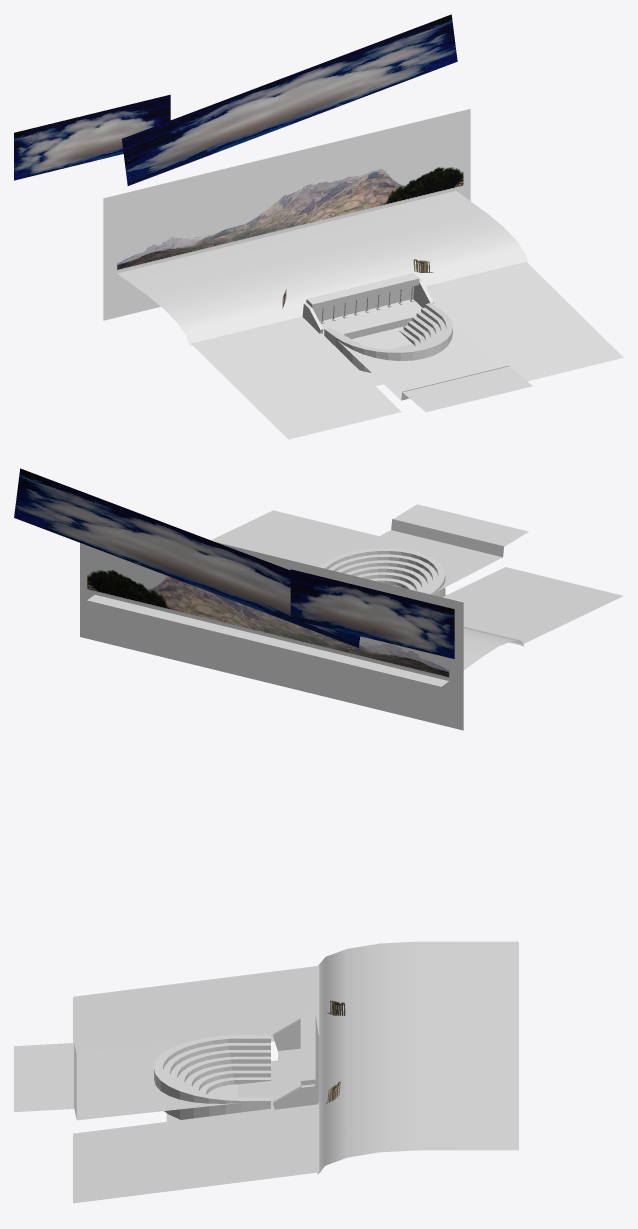
File: Greek_Arena.fbx
3 renders of one model, top to bottom at view 1: azimuth 30°, elevation 25°; view 2: azimuth 150°, elevation 25°; view 3: azimuth 270°, elevation 25°, orthographic. The views are drawn at different scales.
Visible parts, largest first — view 1: Montagne, Collina, Collina2, Nuvola1, Pavimento, Nuvola2, Palco, Spalti, Arena; view 2: Montagne, Nuvola1, Collina2, Nuvola2, Pavimento, Collina, Spalti; view 3: Collina, Collina2, Pavimento, Spalti, Palco, Arena.
Boxes of the visible parts, x1,y1,x2,y2 form: Montagne: (103, 109, 470, 320); Collina: (117, 191, 528, 345); Collina2: (191, 262, 623, 439); Nuvola1: (122, 14, 457, 185); Pavimento: (323, 301, 532, 412); Nuvola2: (14, 94, 170, 180); Palco: (302, 273, 433, 338); Spalti: (324, 303, 452, 372); Arena: (352, 326, 411, 386); Montagne: (80, 542, 463, 730); Nuvola1: (14, 468, 360, 647); Collina2: (211, 510, 623, 644); Nuvola2: (290, 569, 454, 658); Pavimento: (347, 504, 528, 591); Collina: (87, 595, 524, 686); Spalti: (318, 548, 445, 597); Collina: (317, 941, 518, 1174); Collina2: (73, 966, 321, 1203); Pavimento: (14, 1033, 273, 1120); Spalti: (154, 1035, 270, 1119); Palco: (273, 1013, 318, 1109); Arena: (166, 1060, 277, 1121).
Bounding box in the file's own units: 4038 × 1672 × 3907.
